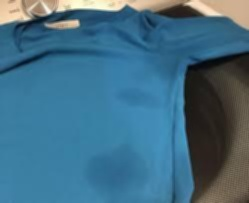oil: (85, 149, 151, 193), (117, 78, 166, 118)
